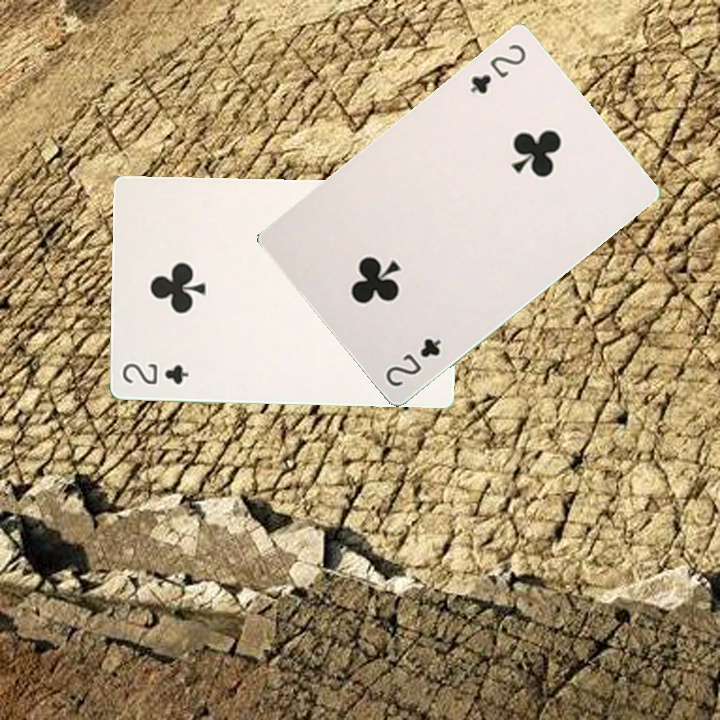2c: (466, 39, 529, 97), (381, 334, 444, 390), (119, 359, 191, 387)
